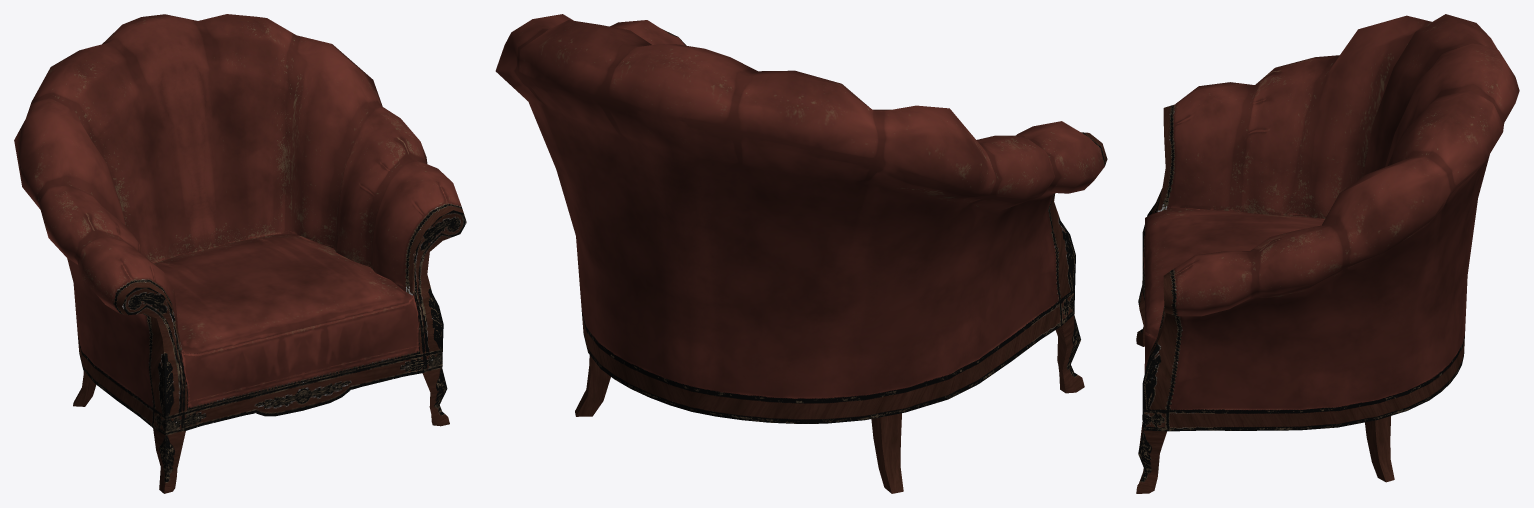
File: sofa_single.gltf
3 views of the same model, side by side, from view 1: azimuth 30°, elevation 25°; view 2: azimuth 150°, elevation 25°; view 3: azimuth 270°, elevation 25° (orthographic). The views are drawn at different scales.
Parts seen in each view (by area): view 1: Sofa020_001_Sofa020_0; view 2: Sofa020_001_Sofa020_0; view 3: Sofa020_001_Sofa020_0.
Part boxes in pixels (left/top/right/bottom): Sofa020_001_Sofa020_0: left=14, top=14, right=466, bottom=493; Sofa020_001_Sofa020_0: left=495, top=14, right=1107, bottom=493; Sofa020_001_Sofa020_0: left=1136, top=14, right=1519, bottom=493.
Size of the model in its own units: 163 by 138 by 132.
1 material, 1 textured.
